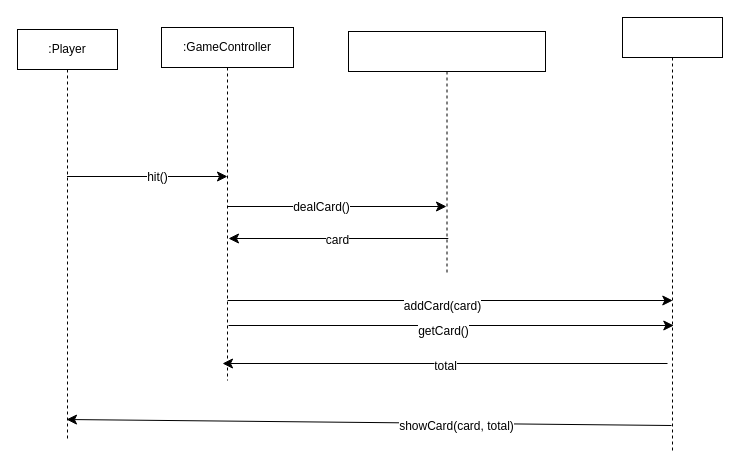
Image size: 740x468. Some labels were removed from this diagram. The box of each missing label's shape, as (x1, y1, x2, y2) in pixels:
:Deck: (348, 30, 546, 276)
:Hand: (622, 16, 722, 450)
